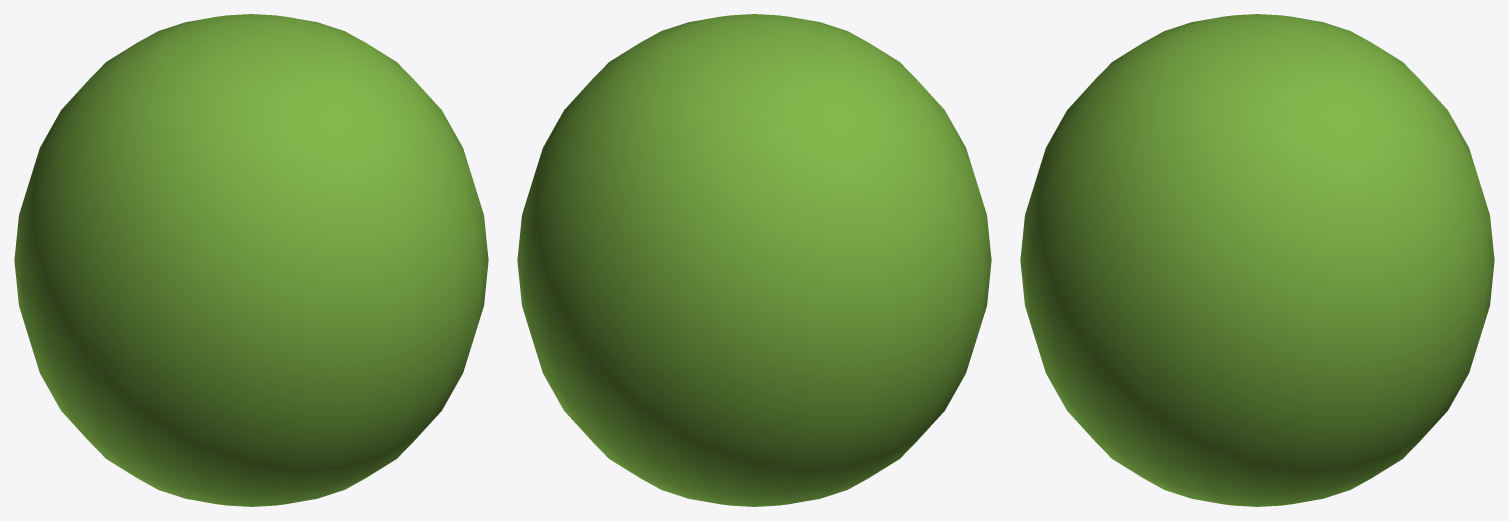
File: Lime.fbx
3 views of the same model, side by side, from view 1: azimuth 30°, elevation 25°; view 2: azimuth 150°, elevation 25°; view 3: azimuth 270°, elevation 25° (orthographic).
Visible parts, largest first — view 1: Lime; view 2: Lime; view 3: Lime.
Part boxes in pixels (<box>): Lime: <box>14,14,488,506</box>; Lime: <box>517,14,991,506</box>; Lime: <box>1020,14,1494,506</box>.
Bounding box in the file's own units: 0.05 × 0.0513 × 0.05.
